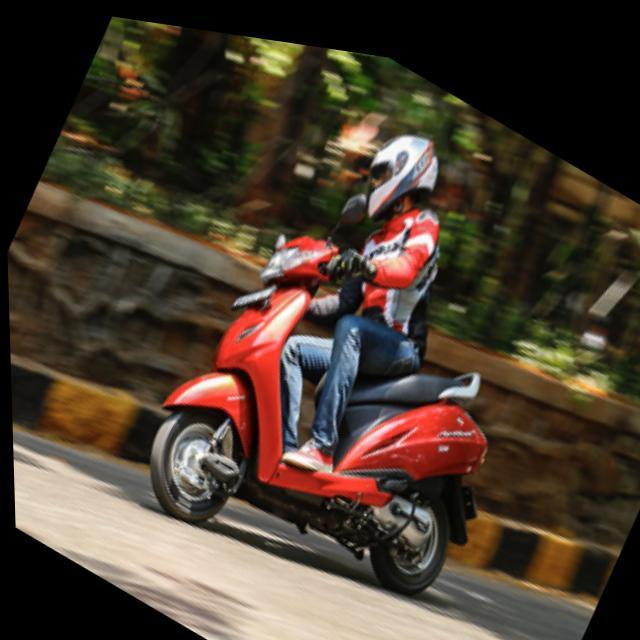Helmet: (350, 126, 449, 232)
